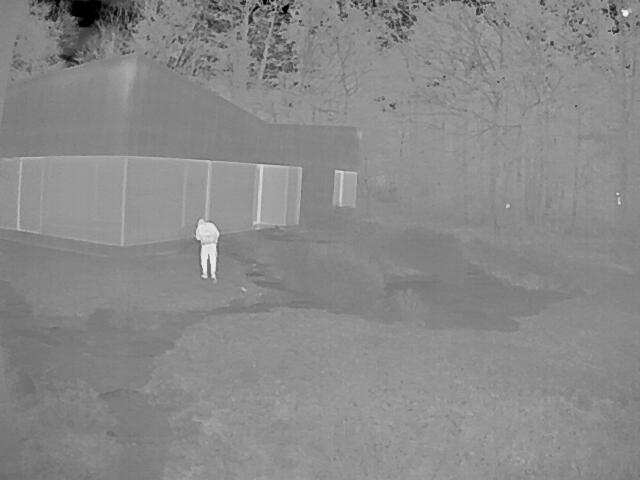person: (192, 217, 218, 280)
